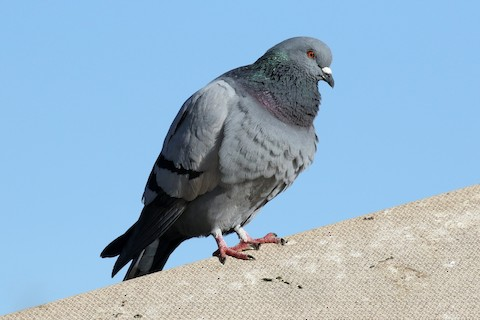pigeon: (96, 30, 337, 287)
